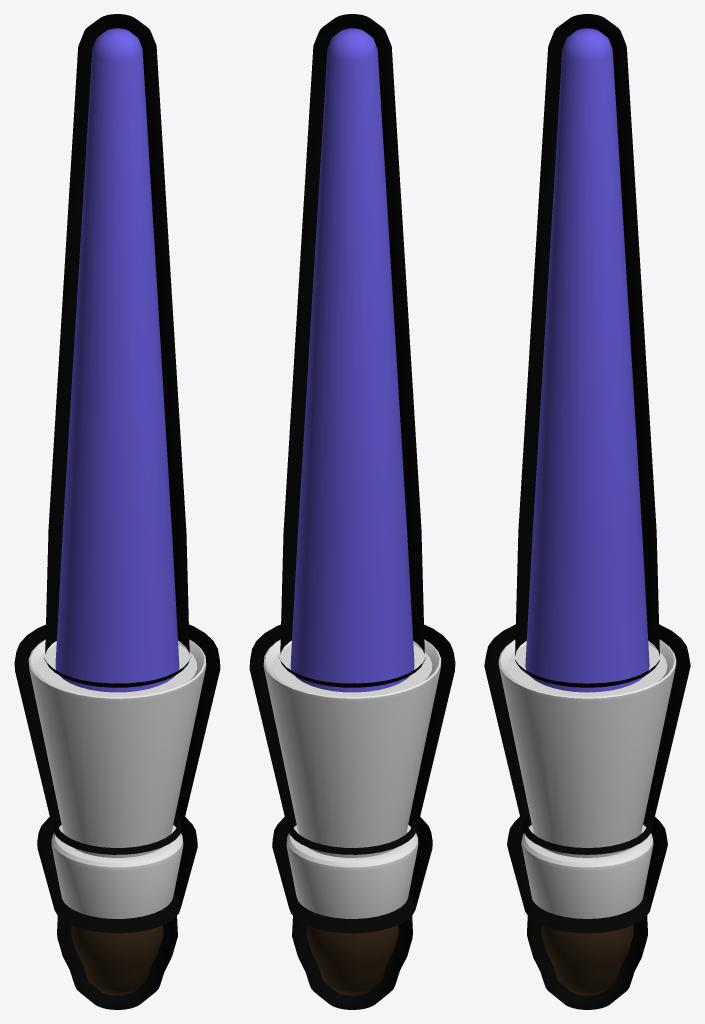
Rendered from Brush_added_outline.glb.
The picture shows the model from 3 angles, left to right: view 1: azimuth 30°, elevation 25°; view 2: azimuth 150°, elevation 25°; view 3: azimuth 270°, elevation 25°; orthographic projection.
Parts seen in each view (by area): view 1: Cylinder; view 2: Cylinder; view 3: Cylinder.
Boxes of the visible parts, x1,y1,x2,y2 form: Cylinder: [14, 14, 220, 1009]; Cylinder: [249, 14, 455, 1009]; Cylinder: [484, 14, 690, 1009].
Size of the model in its own units: 2.74 by 14.44 by 2.74.
